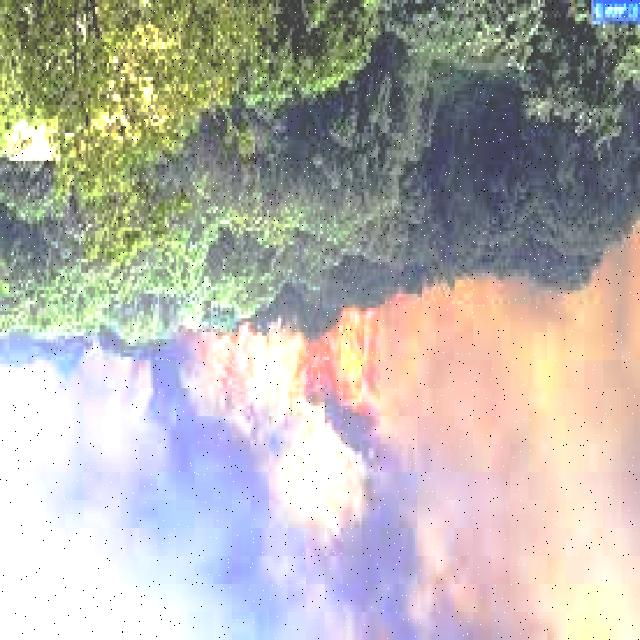api: (328, 309, 364, 411), (214, 324, 256, 376)
asap: (11, 401, 393, 635), (381, 298, 637, 640), (8, 333, 196, 405), (258, 309, 312, 413)
